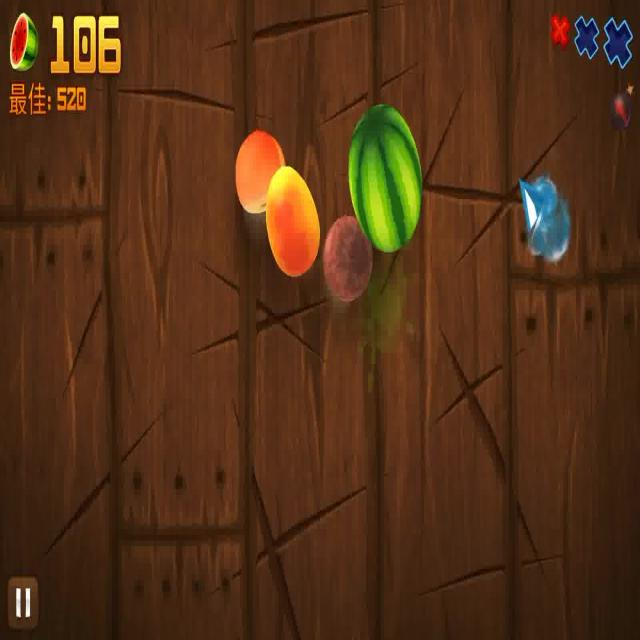fruit: (349, 99, 423, 252), (268, 168, 320, 276), (318, 220, 374, 306), (232, 132, 288, 212)
